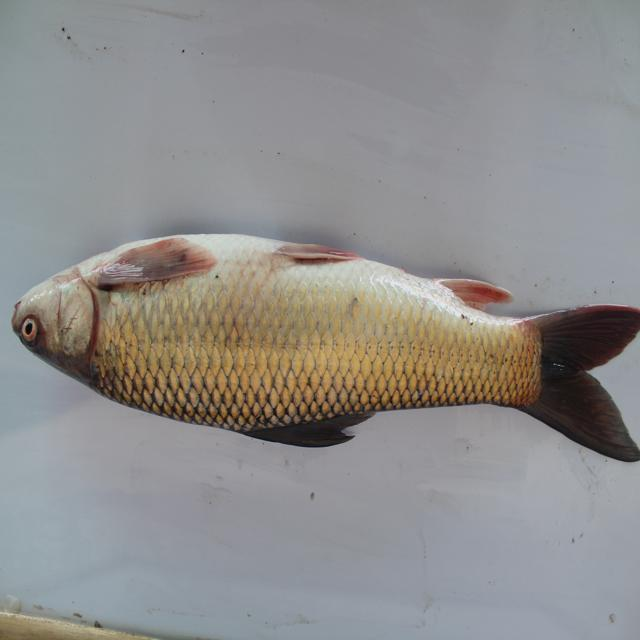Mori: (14, 218, 640, 481)
